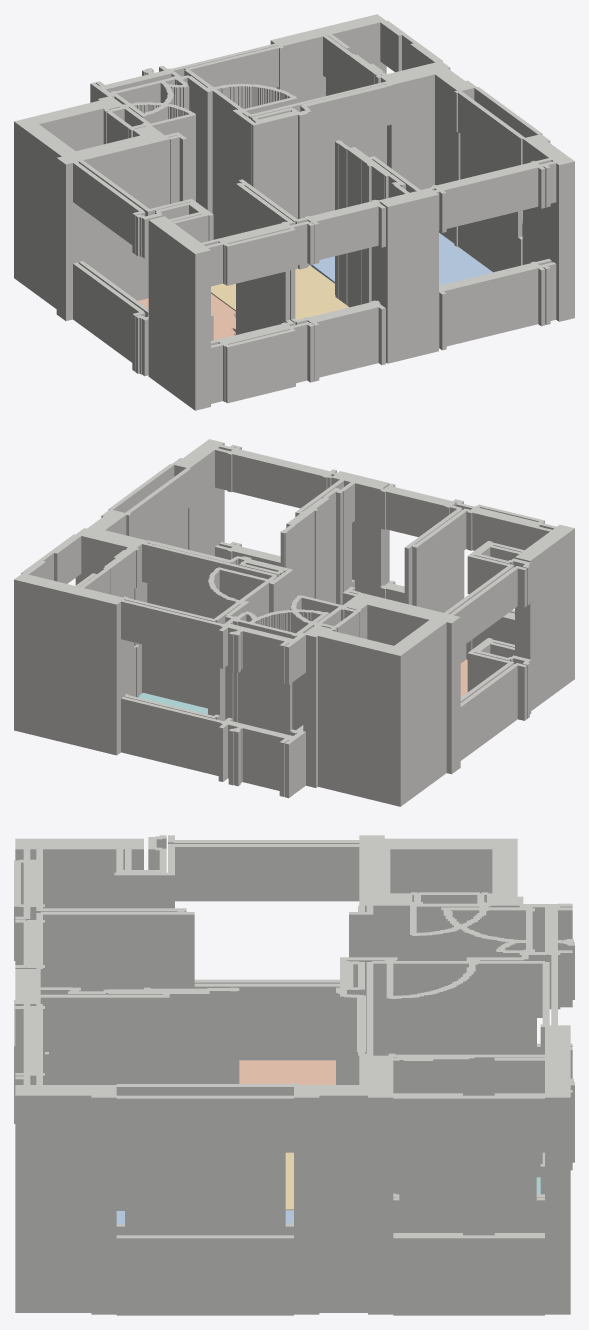
3 views of the same model, one above another, from view 1: azimuth 30°, elevation 25°; view 2: azimuth 150°, elevation 25°; view 3: azimuth 270°, elevation 25° (orthographic). The views are drawn at different scales.
Parts seen in each view (by area): view 1: walls, room:living:4, room:bedroom:5, room:kitchen:3; view 2: walls; view 3: walls, room:kitchen:3.
Part boxes in pixels (bbox=[...]): walls: bbox=[14, 14, 574, 410]; room:living:4: bbox=[211, 265, 349, 335]; room:bedroom:5: bbox=[311, 233, 492, 285]; room:kitchen:3: bbox=[138, 293, 235, 340]; walls: bbox=[14, 439, 574, 806]; walls: bbox=[14, 835, 574, 1315]; room:kitchen:3: bbox=[239, 1060, 335, 1084].
Size of the model in its own units: 7.28 by 2.8 by 6.55.
